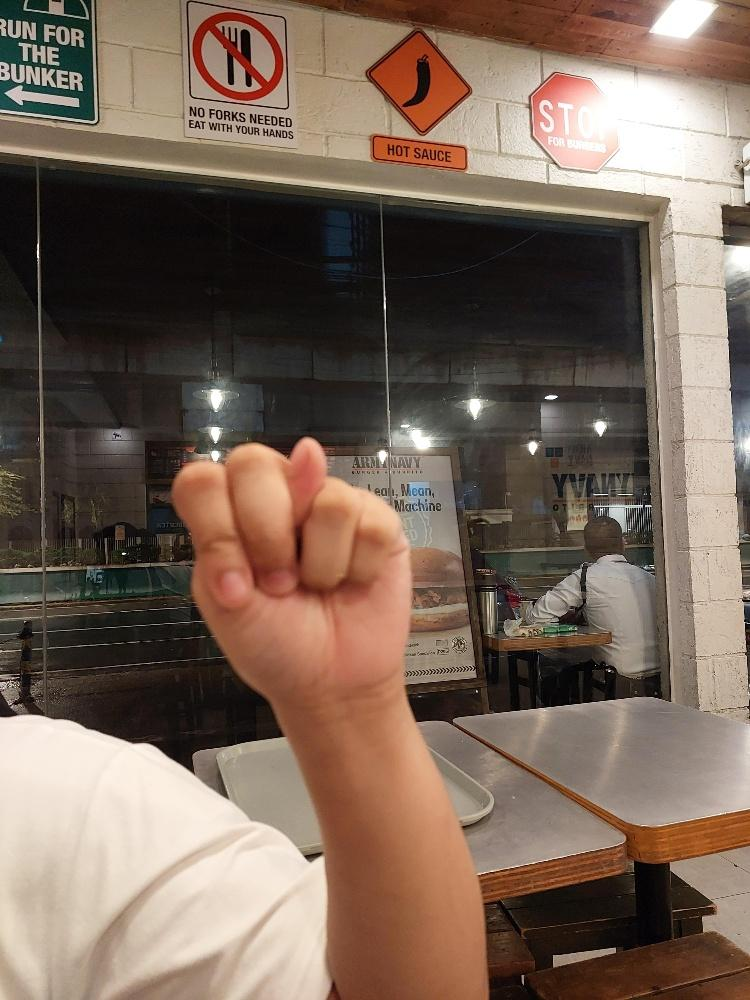n: (168, 434, 415, 700)
